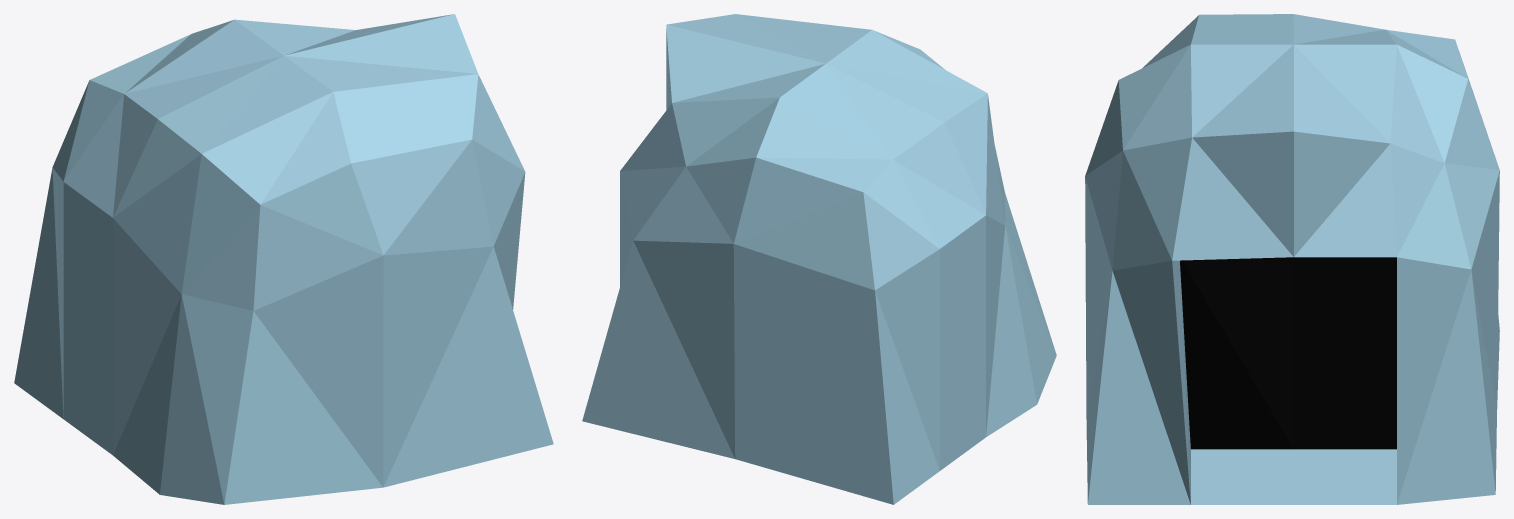
File: Mine.dae
3 renders of one model, left to right at view 1: azimuth 30°, elevation 25°; view 2: azimuth 150°, elevation 25°; view 3: azimuth 270°, elevation 25°, orthographic. The views are drawn at different scales.
Visible parts, largest first — view 1: Cube; view 2: Cube; view 3: Cube.
Part boxes in pixels (left/top/right/bottom): Cube: left=14, top=14, right=553, bottom=504; Cube: left=582, top=14, right=1056, bottom=504; Cube: left=1085, top=14, right=1499, bottom=504.
Bounding box in the file's own units: 2.09 × 2.01 × 2.03.
